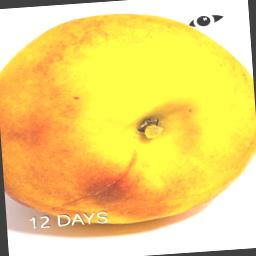Peach Unripe: (0, 1, 256, 237)
